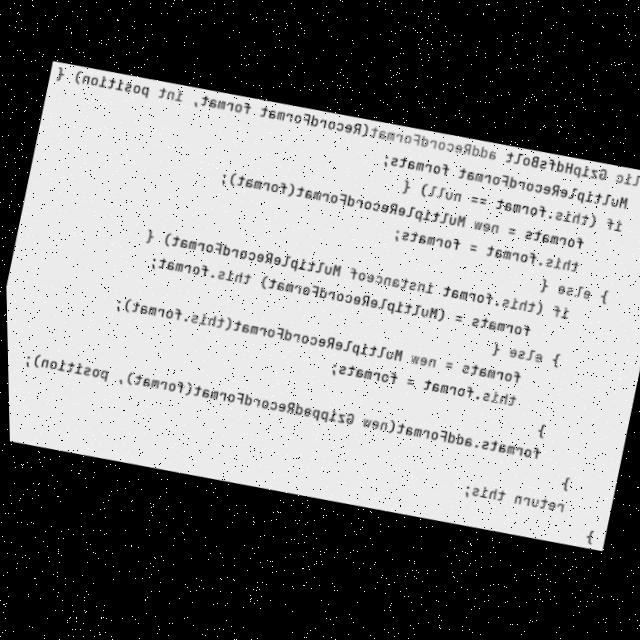code_screen: (6, 62, 640, 550)
